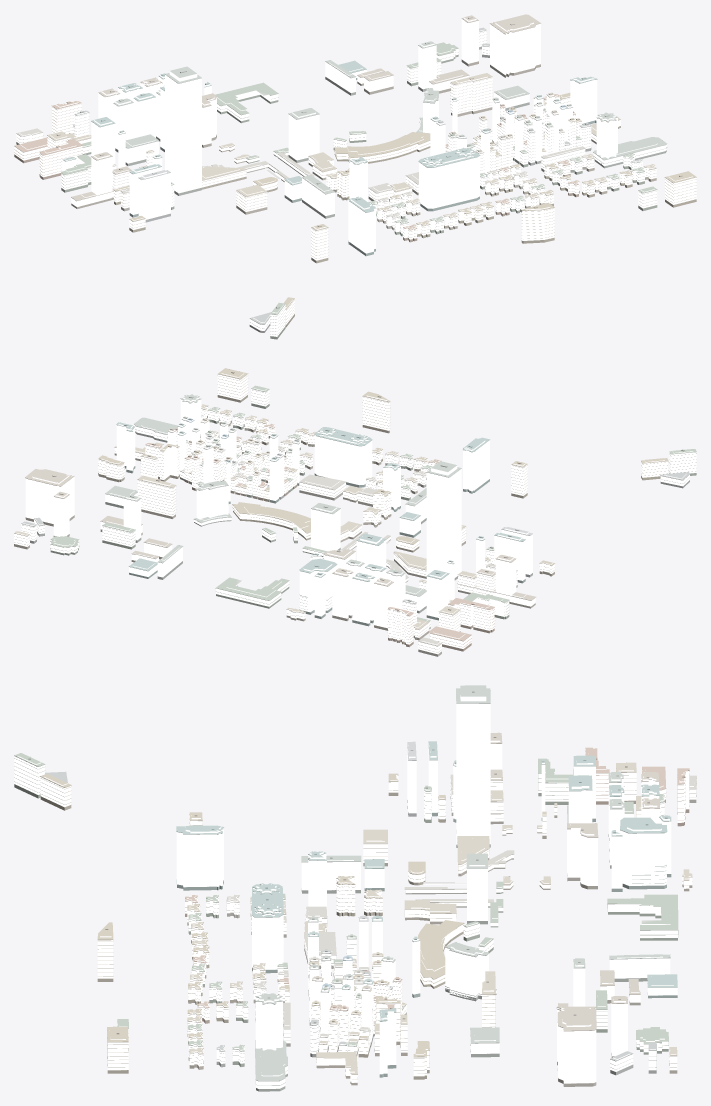
The model's file is buildings-6_0-fine.glb.
The picture shows the model from 3 angles, top to bottom: view 1: azimuth 30°, elevation 25°; view 2: azimuth 150°, elevation 25°; view 3: azimuth 270°, elevation 25°; orthographic projection. The views are drawn at different scales.
Visible parts, largest first — view 1: block_6_0_office, block_6_0_residential, block_6_0_roof, block_6_0_darkglass, block_6_0_concrete, block_6_0_steel; view 2: block_6_0_office, block_6_0_residential, block_6_0_roof, block_6_0_darkglass, block_6_0_concrete, block_6_0_steel; view 3: block_6_0_office, block_6_0_roof, block_6_0_residential, block_6_0_darkglass, block_6_0_concrete, block_6_0_steel.
Part boxes in pixels (left/top/right/bottom): block_6_0_office: left=62, top=17, right=617, bottom=253; block_6_0_residential: left=14, top=29, right=696, bottom=336; block_6_0_roof: left=14, top=14, right=696, bottom=334; block_6_0_darkglass: left=14, top=46, right=696, bottom=339; block_6_0_concrete: left=14, top=30, right=696, bottom=334; block_6_0_steel: left=63, top=19, right=617, bottom=212; block_6_0_office: left=25, top=395, right=535, bottom=628; block_6_0_residential: left=14, top=373, right=696, bottom=654; block_6_0_roof: left=14, top=368, right=696, bottom=650; block_6_0_darkglass: left=14, top=395, right=696, bottom=656; block_6_0_concrete: left=14, top=374, right=696, bottom=652; block_6_0_steel: left=25, top=398, right=535, bottom=600; block_6_0_office: left=176, top=685, right=677, bottom=1083; block_6_0_roof: left=14, top=685, right=696, bottom=1088; block_6_0_residential: left=14, top=753, right=696, bottom=1088; block_6_0_darkglass: left=14, top=784, right=696, bottom=1091; block_6_0_concrete: left=14, top=755, right=695, bottom=1085; block_6_0_steel: left=176, top=703, right=677, bottom=1043.
Size of the model in its own units: 697 by 155 by 638.
